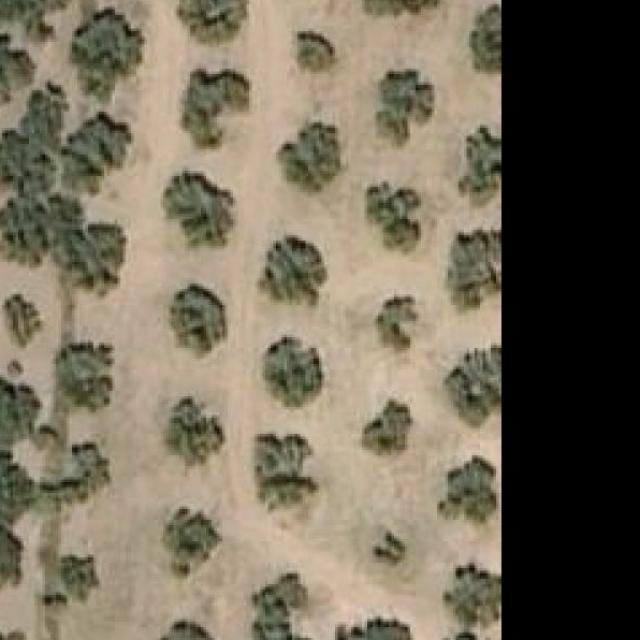Tree: (161, 171, 236, 249), (183, 69, 250, 147), (442, 344, 500, 428), (376, 69, 435, 149), (260, 235, 327, 305), (257, 434, 319, 509), (172, 278, 229, 359), (163, 506, 226, 579), (446, 228, 499, 314), (56, 224, 126, 289), (78, 13, 134, 93), (65, 115, 122, 193), (278, 122, 341, 192), (163, 396, 226, 466), (442, 560, 500, 636), (262, 337, 324, 407), (437, 453, 499, 523), (244, 579, 314, 640), (0, 131, 61, 198), (365, 181, 422, 246), (0, 195, 56, 261), (50, 346, 110, 405), (0, 369, 40, 450), (458, 128, 499, 206), (176, 0, 249, 42), (54, 546, 105, 604), (362, 399, 413, 456), (29, 85, 72, 148), (0, 27, 33, 109), (376, 298, 419, 354), (470, 2, 500, 81), (6, 294, 48, 348), (0, 453, 29, 528), (332, 616, 416, 640), (298, 31, 338, 74), (362, 0, 442, 15), (0, 0, 67, 17), (373, 534, 408, 566), (163, 621, 206, 640), (0, 534, 16, 582), (0, 624, 26, 640)
